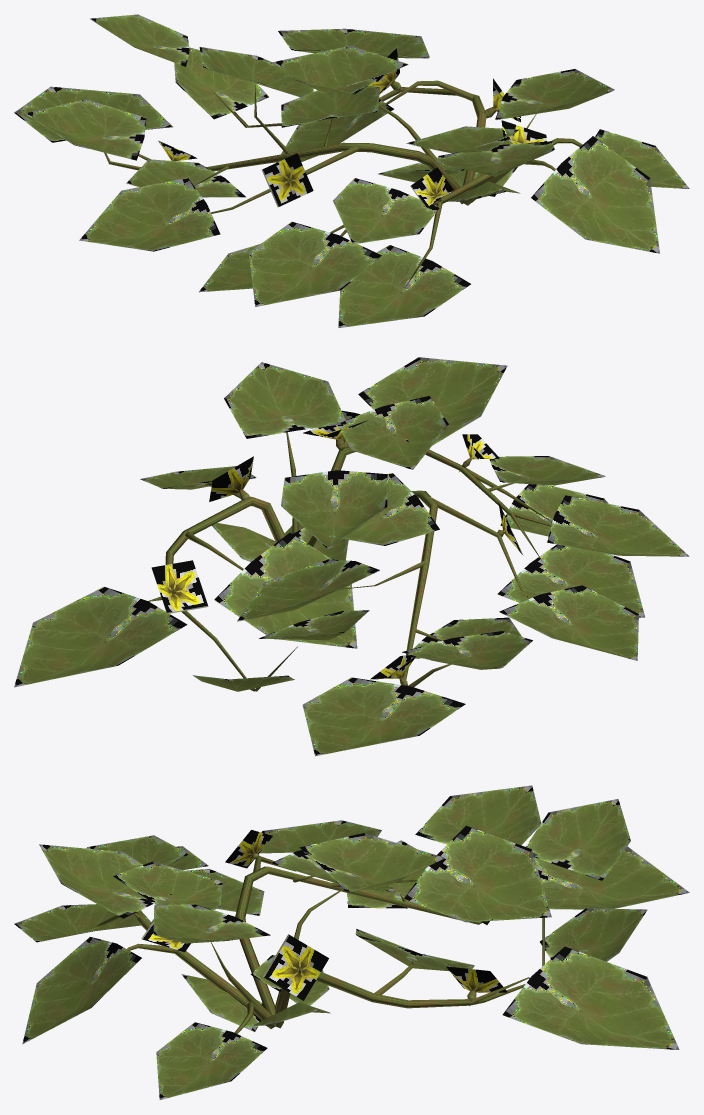
File: pumpkin.skin.3.mature.glb
The picture shows the model from 3 angles, top to bottom: view 1: azimuth 30°, elevation 25°; view 2: azimuth 150°, elevation 25°; view 3: azimuth 270°, elevation 25°; orthographic projection. The views are drawn at different scales.
Visible parts, largest first — view 1: pumpkin_mature_LOD0; view 2: pumpkin_mature_LOD0; view 3: pumpkin_mature_LOD0.
Part boxes in pixels (left/top/right/bottom): pumpkin_mature_LOD0: left=14, top=14, right=689, bottom=327; pumpkin_mature_LOD0: left=14, top=357, right=689, bottom=756; pumpkin_mature_LOD0: left=14, top=785, right=689, bottom=1099.
Size of the model in its own units: 1.74 by 0.4254 by 1.87.
1 material, 1 textured.
